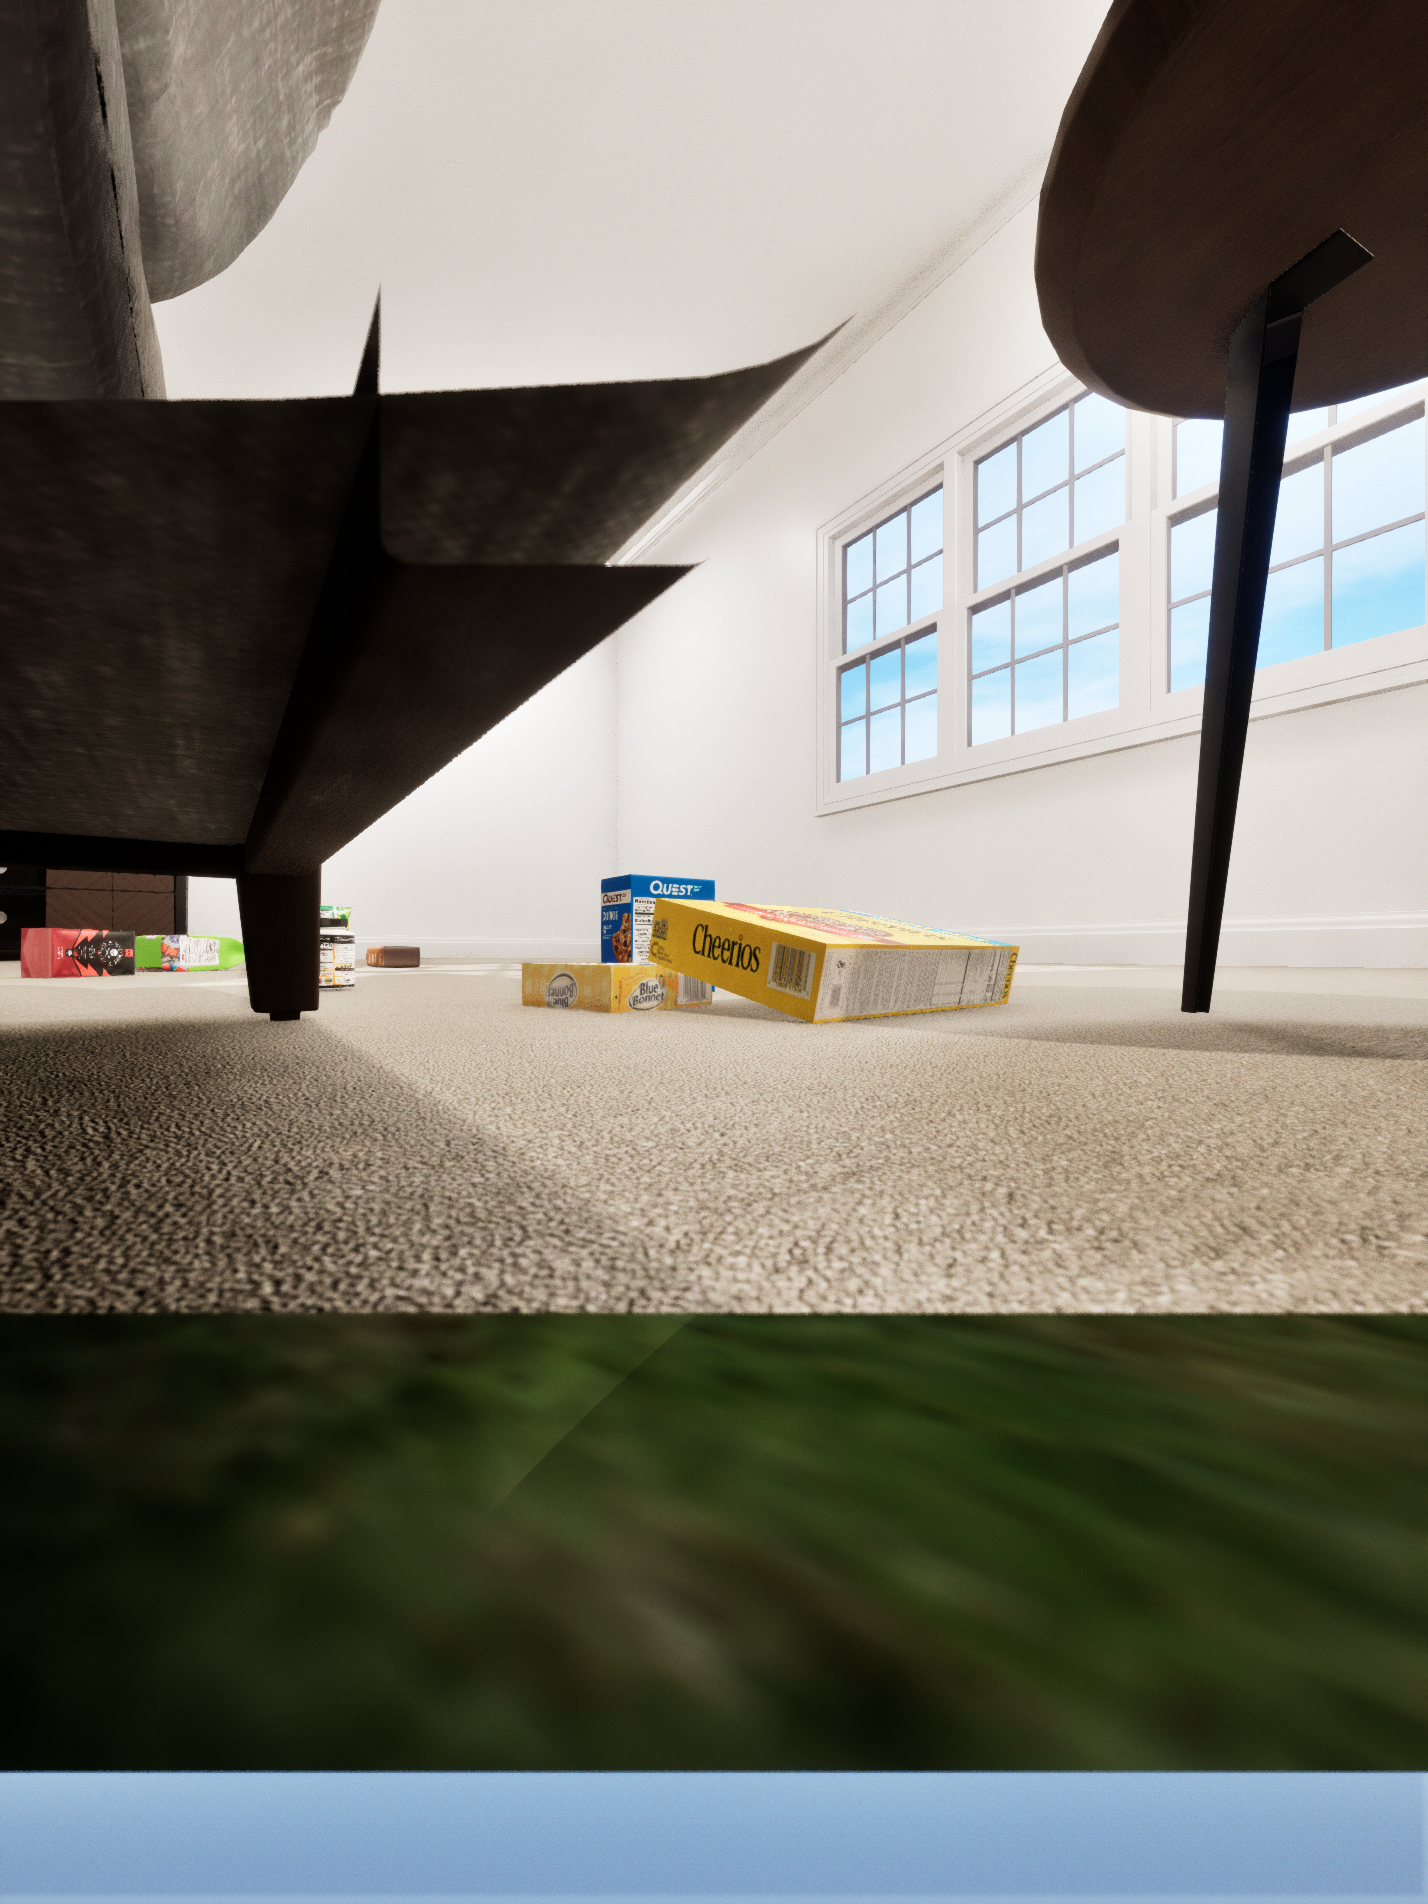cheerios: (648, 898, 1020, 1024)
